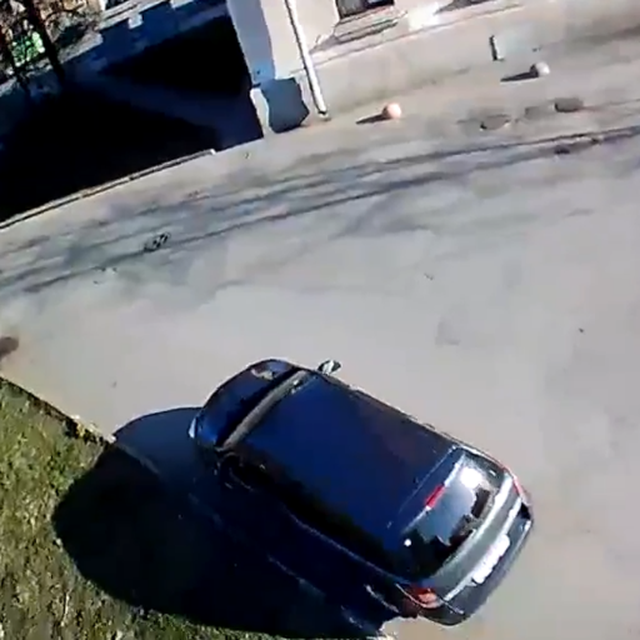car: (188, 358, 534, 627)
